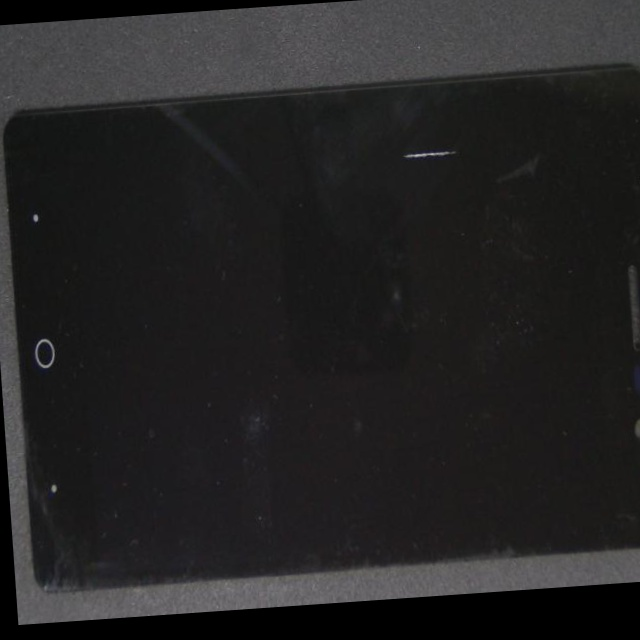scratch: (192, 21, 609, 235)
